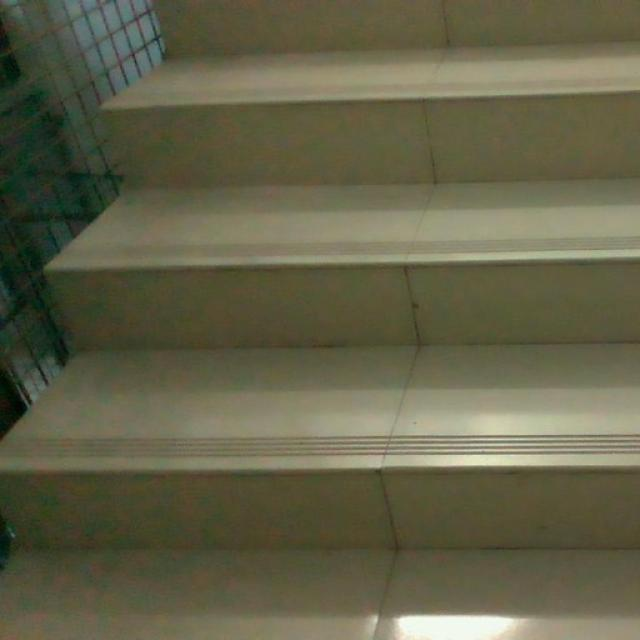stair: (18, 0, 640, 576)
